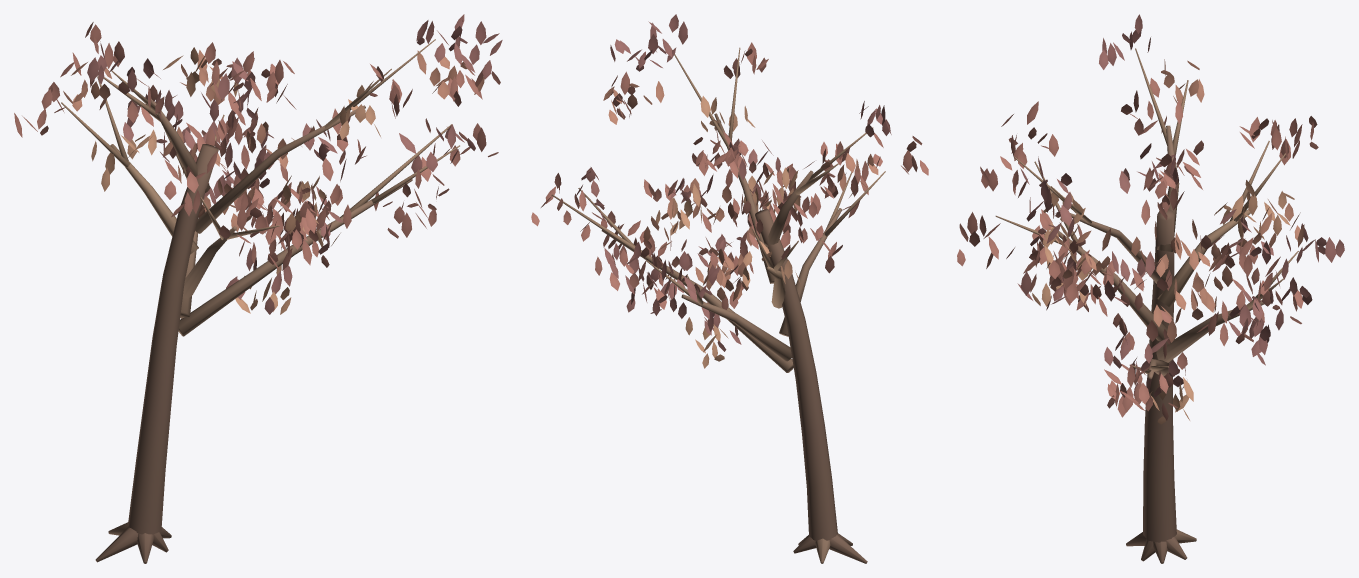
Rendered from tree_3d_04_red.glb.
3 views of the same model, side by side, from view 1: azimuth 30°, elevation 25°; view 2: azimuth 150°, elevation 25°; view 3: azimuth 270°, elevation 25° (orthographic). The views are drawn at different scales.
Visible parts, largest first — view 1: tree_3d_04_red_foliage, tree_3d_04_red_wood; view 2: tree_3d_04_red_foliage, tree_3d_04_red_wood; view 3: tree_3d_04_red_foliage, tree_3d_04_red_wood.
Boxes of the visible parts, x1,y1,x2,y2 form: tree_3d_04_red_foliage: (14,14,502,314); tree_3d_04_red_wood: (61,39,459,563); tree_3d_04_red_foliage: (531,14,928,368); tree_3d_04_red_wood: (551,46,885,563); tree_3d_04_red_foliage: (957,14,1344,424); tree_3d_04_red_wood: (995,48,1298,563).
Size of the model in its own units: 10.64 by 13.12 by 8.95.
